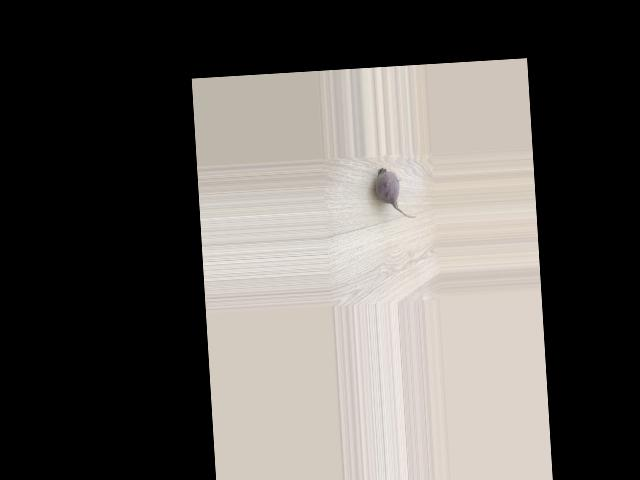beet: (374, 167, 416, 221)
